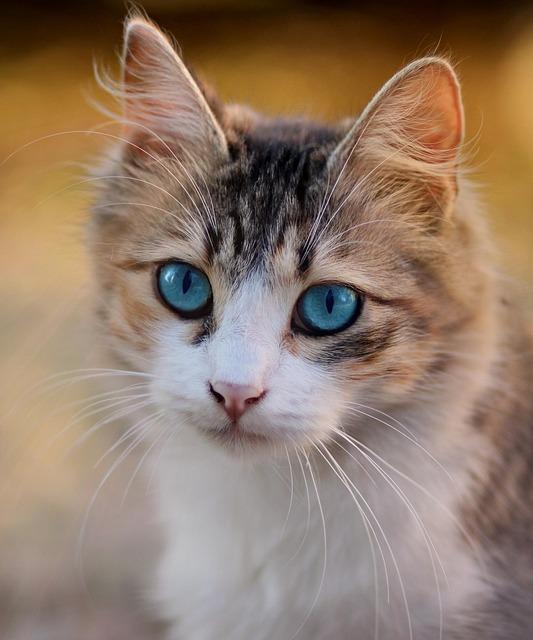Non_Gorille: (13, 15, 533, 640)
